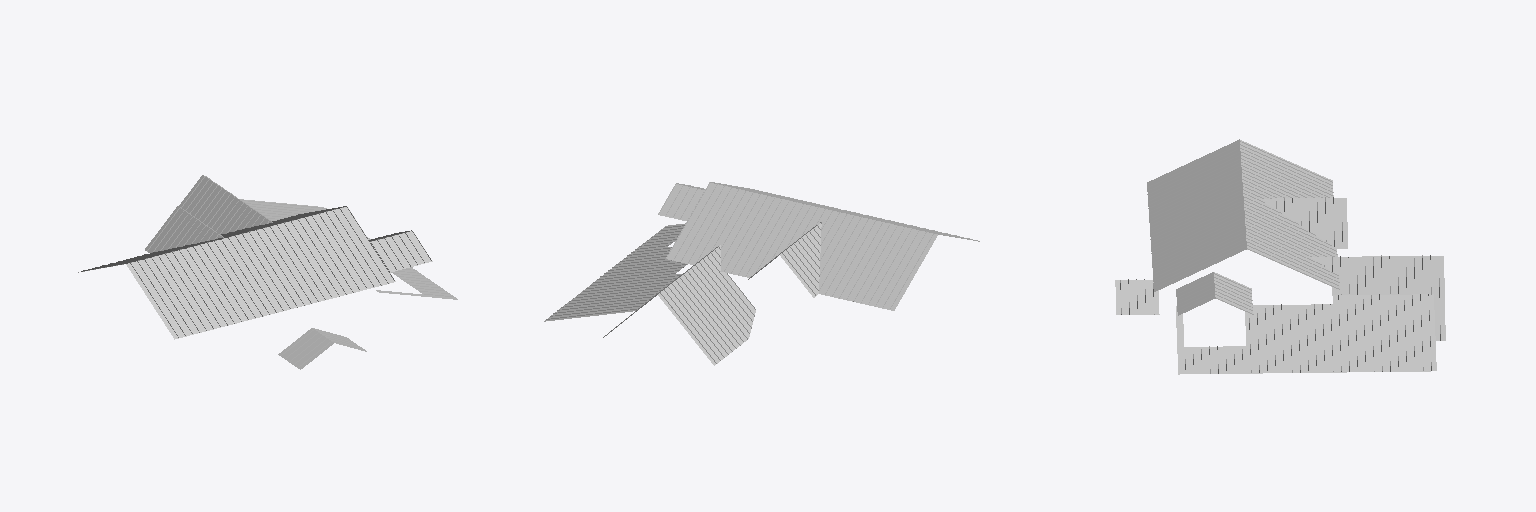
The model's file is roof_primary_1.obj.
3 renders of one model, left to right at view 1: azimuth 30°, elevation 25°; view 2: azimuth 150°, elevation 25°; view 3: azimuth 270°, elevation 25°, orthographic.
Parts seen in each view (by area): view 1: roof_primary_1; view 2: roof_primary_1; view 3: roof_primary_1.
Boxes of the visible parts, <box> form: roof_primary_1: <box>78,175,457,369</box>; roof_primary_1: <box>544,182,979,365</box>; roof_primary_1: <box>1115,139,1445,374</box>.
Size of the model in its own units: 64.47 by 17.81 by 60.71.